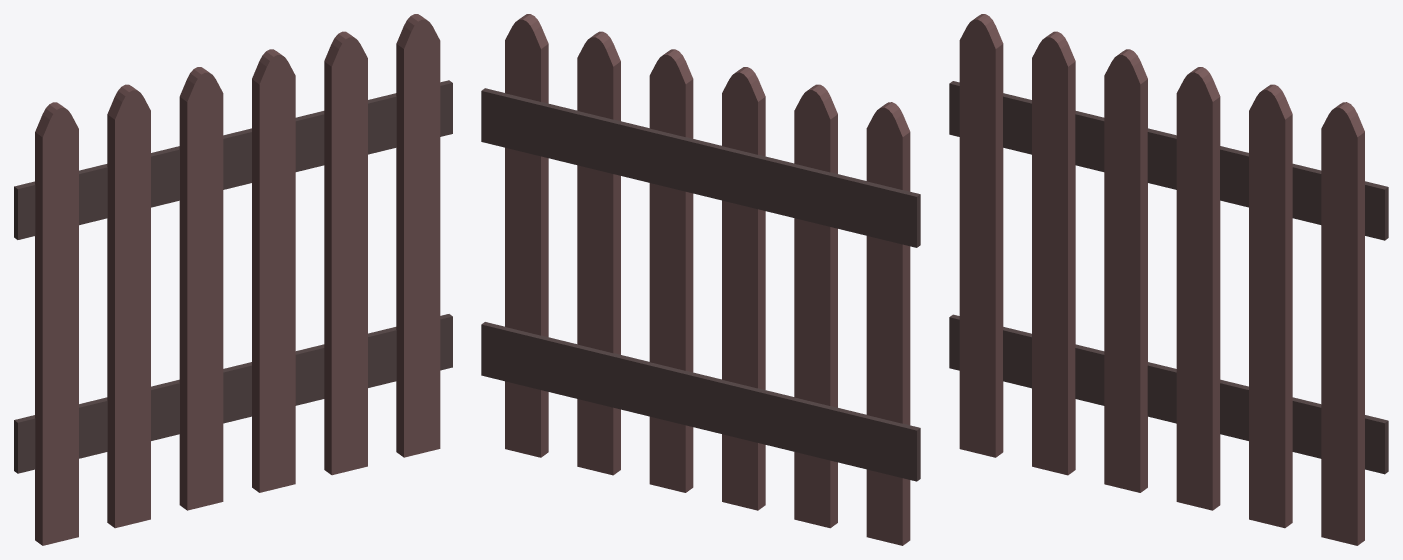
File: Fence03.fbx
The picture shows the model from 3 angles, left to right: view 1: azimuth 30°, elevation 25°; view 2: azimuth 150°, elevation 25°; view 3: azimuth 330°, elevation 25°; orthographic projection.
Parts seen in each view (by area): view 1: Cube.002; view 2: Cube.002; view 3: Cube.002.
Part boxes in pixels (x1,y1,x2,y2): Cube.002: (14,14,452,545); Cube.002: (481,14,920,545); Cube.002: (949,14,1388,545).
Size of the model in its own units: 205 by 196 by 9.16.
